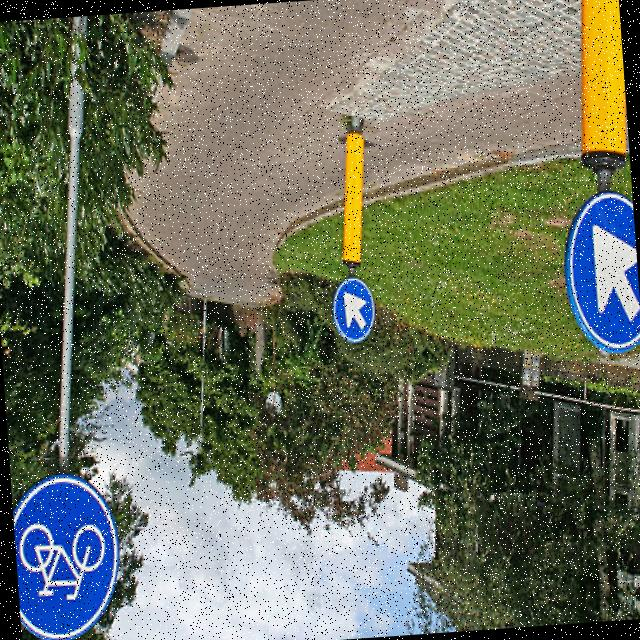bicycle: (10, 465, 145, 640)
